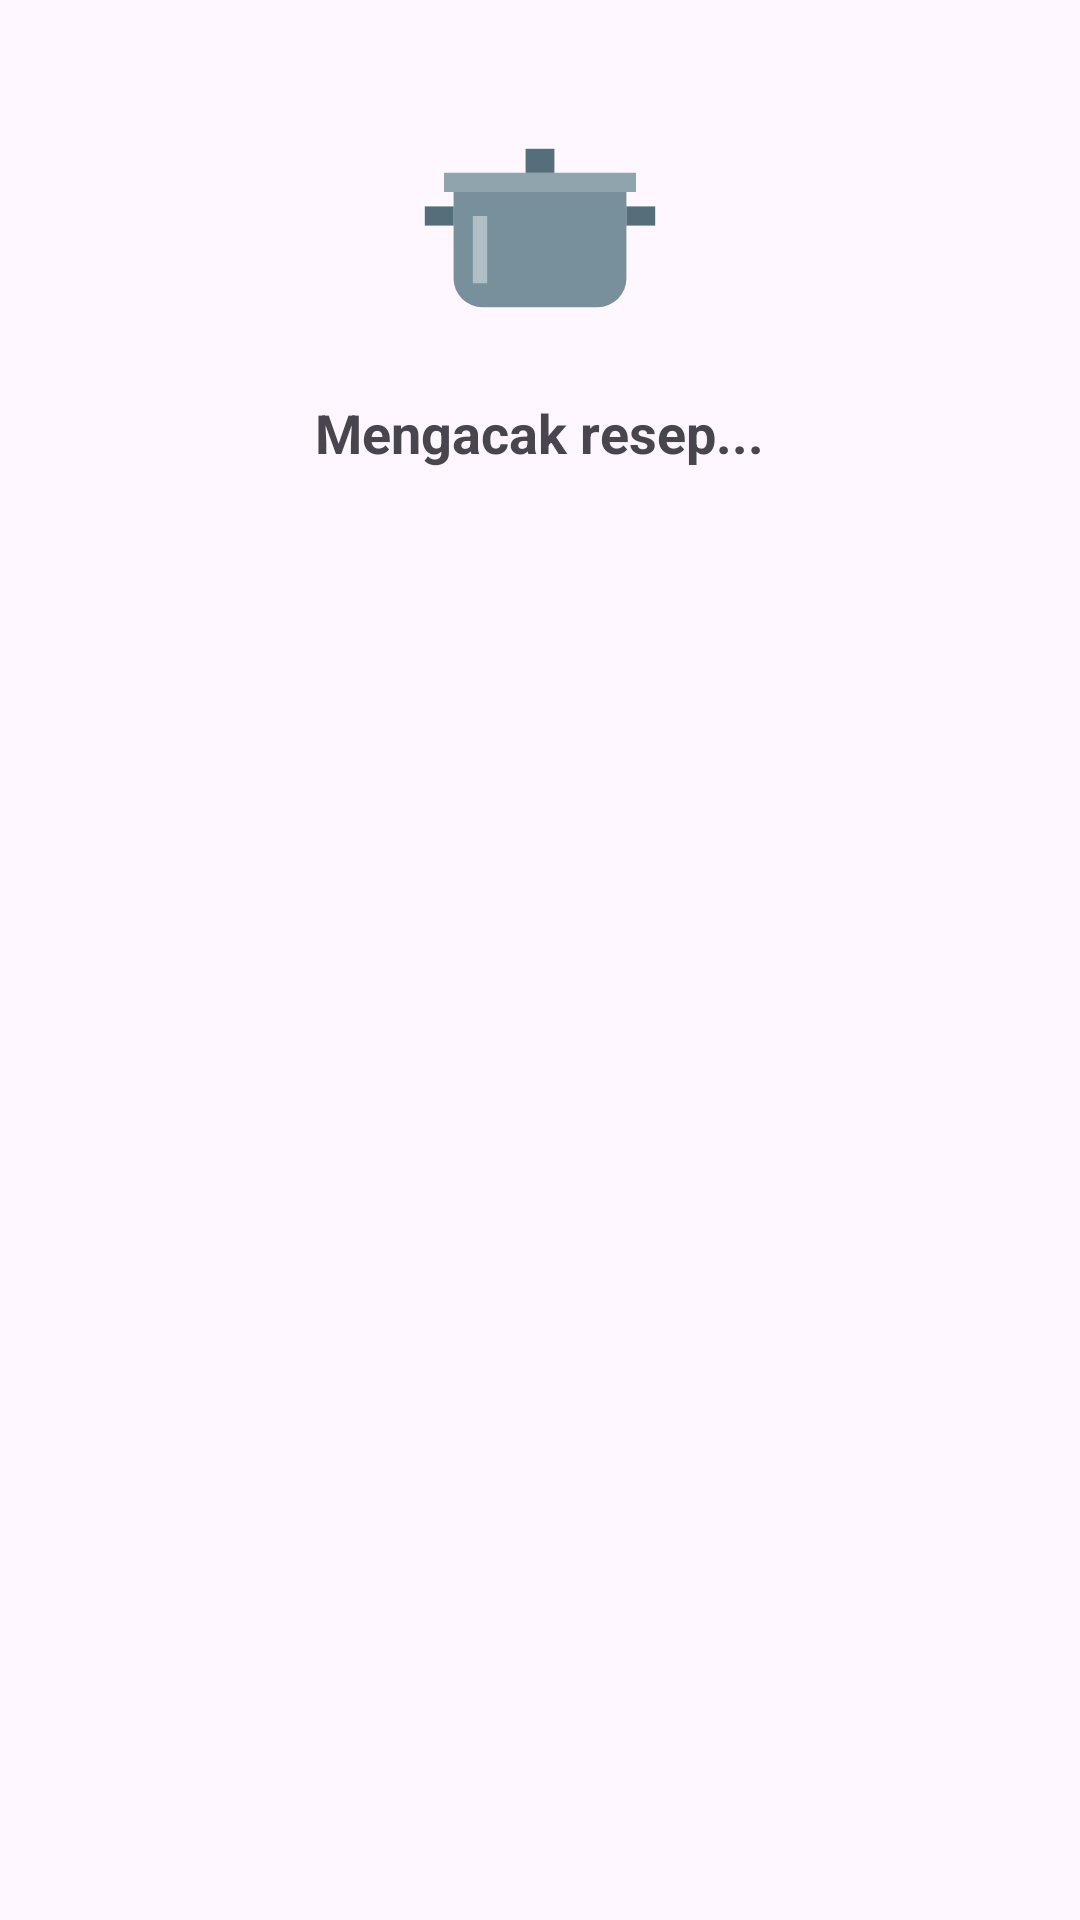

Icon bounding boxes for this 1080w x 1920h phone screenshot, format (x1,y1,x2,y2):
Panci: (424,148,656,308)
